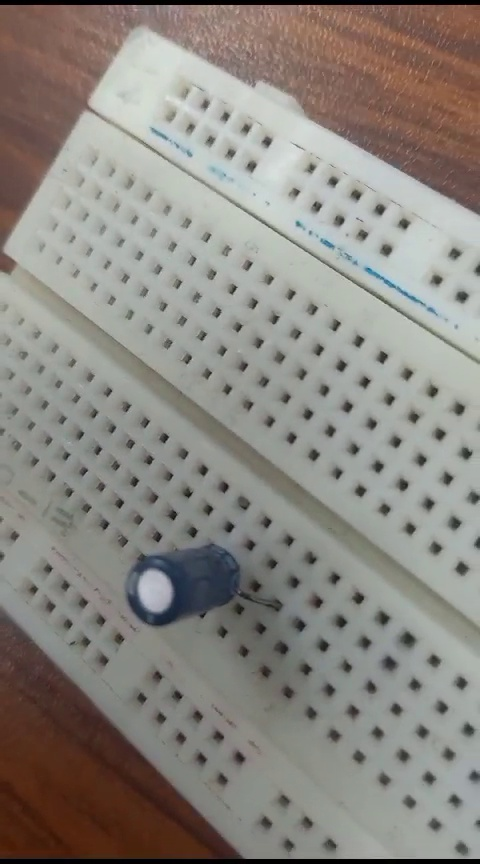capacitor: (121, 539, 274, 645)
